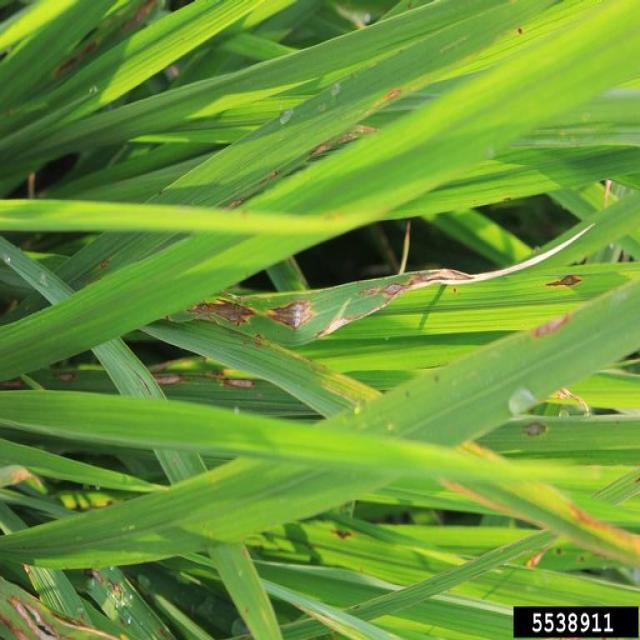Bacterial leaf blight: (277, 91, 398, 169), (327, 367, 400, 427), (192, 290, 273, 342), (13, 585, 89, 640), (548, 506, 640, 550), (368, 270, 485, 304), (278, 284, 336, 330)
